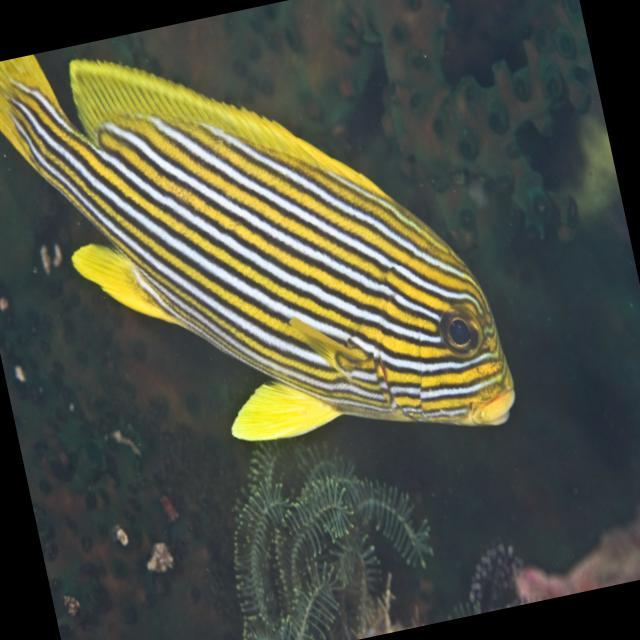RibbonedSweetlips: (0, 0, 523, 521)
